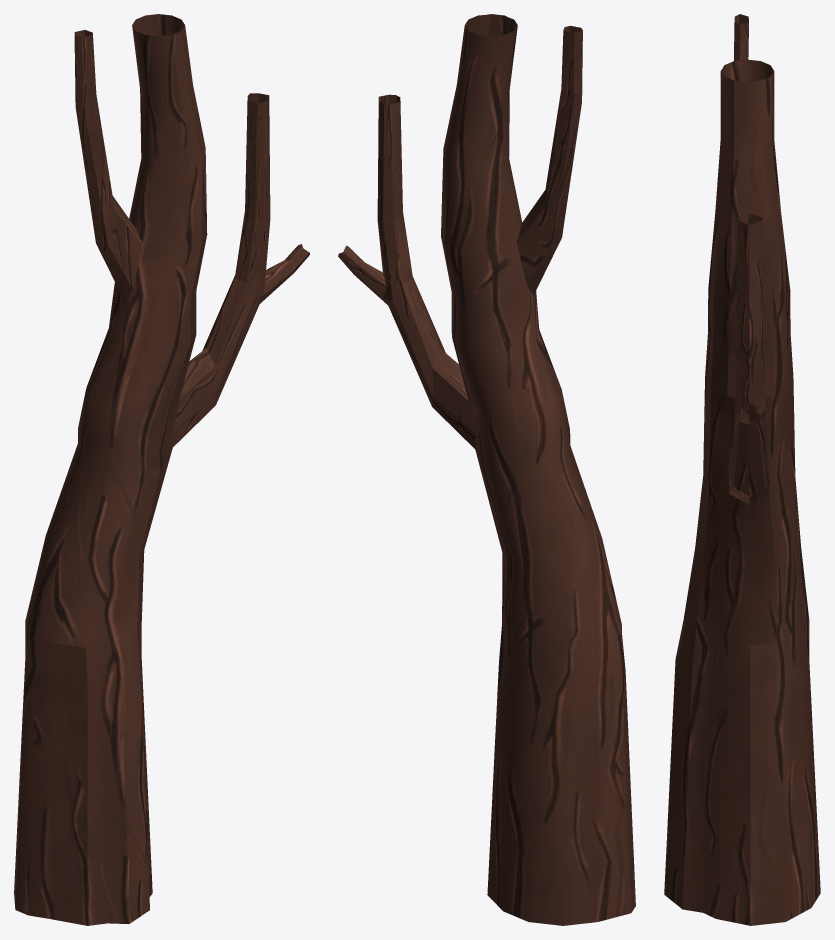
File: Dead Tree.FBX
3 views of the same model, side by side, from view 1: azimuth 30°, elevation 25°; view 2: azimuth 150°, elevation 25°; view 3: azimuth 270°, elevation 25° (orthographic).
Visible parts, largest first — view 1: Object003; view 2: Object003; view 3: Object003.
Boxes of the visible parts, x1=… form: Object003: x1=14, y1=14, x2=309, y2=925; Object003: x1=338, y1=14, x2=635, y2=925; Object003: x1=664, y1=14, x2=820, y2=925.
Size of the model in its own units: 11.09 by 31.36 by 5.1.
